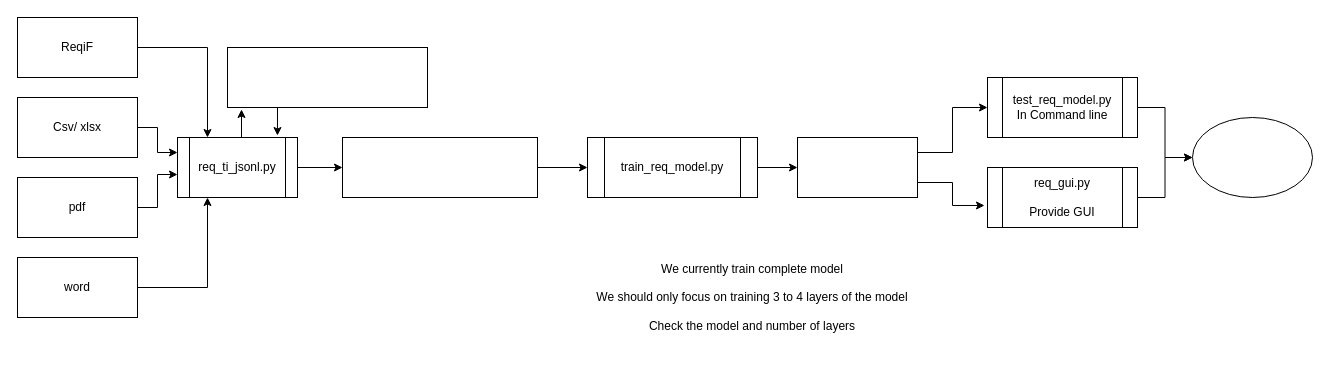
Image size: 1330x375. Some labels were removed from this diagram. The shapes that lost their labels are listed below. From the top down, each one's box as (x1, y1, x2, y2) in pixels, then its label:
(226, 46, 428, 108): Data augumentation without changing the label
(342, 136, 538, 198): requirements_for_llm.jsonl
(796, 136, 918, 198): bert_req_eval_model
(1192, 116, 1312, 198): Prediction
